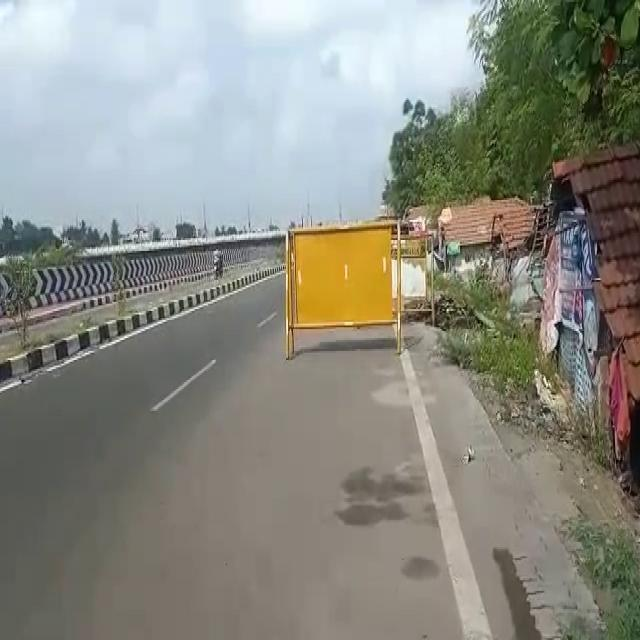fallen_object: (280, 206, 452, 371)
